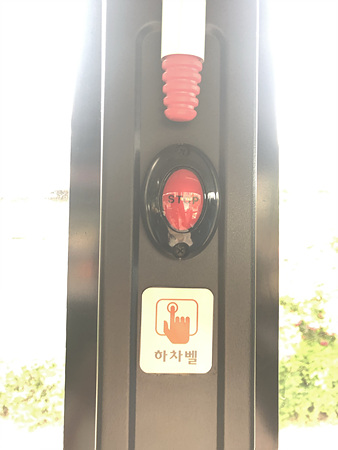bell: (144, 143, 219, 259)
